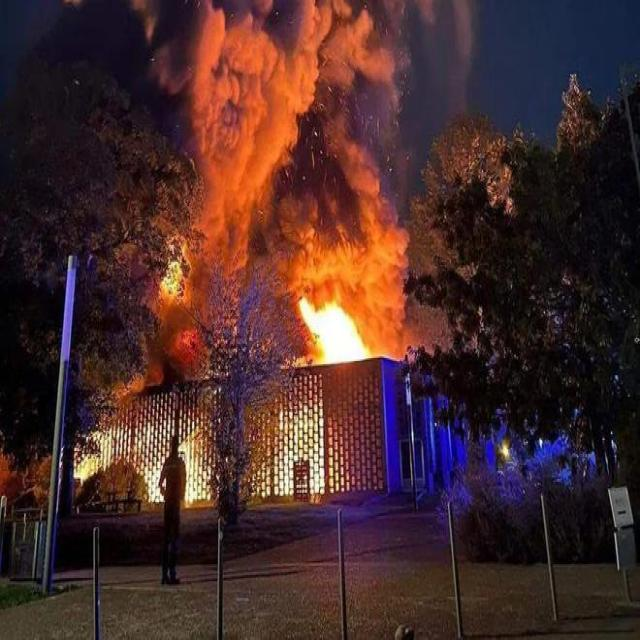Fire: (299, 298, 371, 362)
Smoke: (191, 4, 318, 170), (204, 170, 267, 235)
